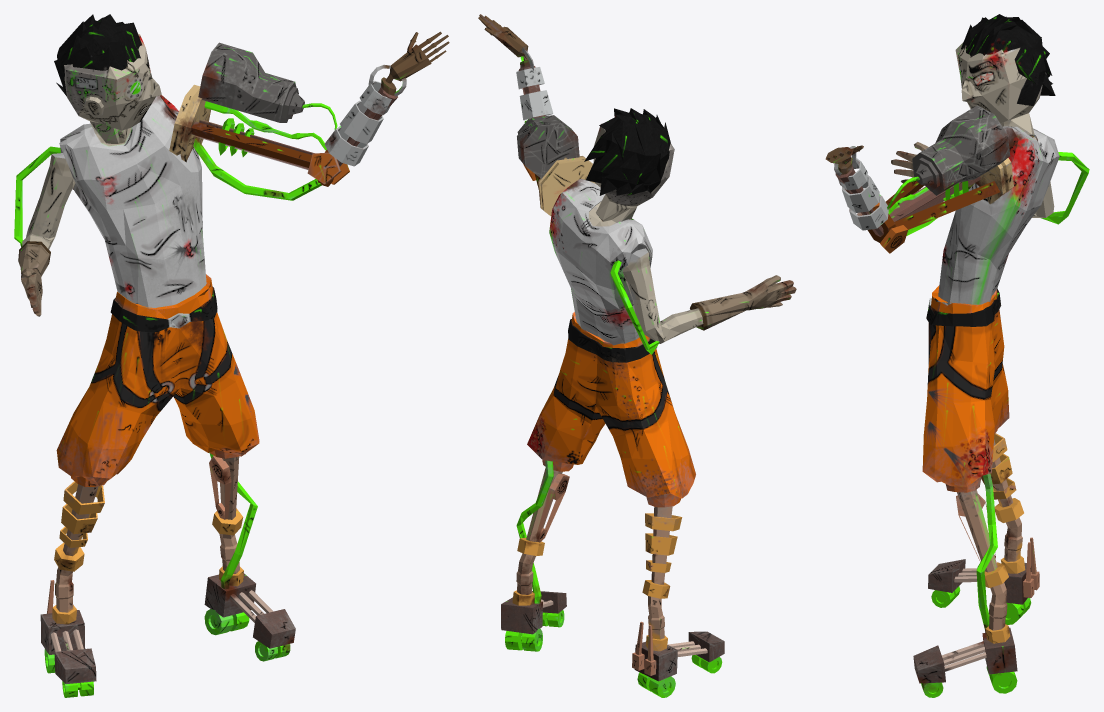
File: CyborgFINALAnimation_000055.obj
3 views of the same model, side by side, from view 1: azimuth 30°, elevation 25°; view 2: azimuth 150°, elevation 25°; view 3: azimuth 270°, elevation 25° (orthographic). The views are drawn at different scales.
Parts seen in each view (by area): view 1: CyborgMesh_Cube.002; view 2: CyborgMesh_Cube.002; view 3: CyborgMesh_Cube.002.
Boxes of the visible parts, x1,y1,x2,y2 form: CyborgMesh_Cube.002: [14, 14, 449, 697]; CyborgMesh_Cube.002: [478, 14, 796, 697]; CyborgMesh_Cube.002: [825, 14, 1089, 697].
Bounding box in the file's own units: 5.99 × 9.56 × 3.7.
